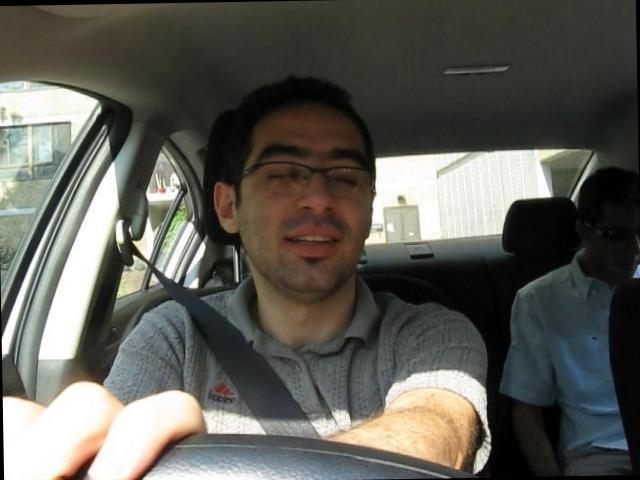eye_closed: (258, 168, 302, 186), (325, 169, 361, 189)
face: (237, 121, 373, 294)
